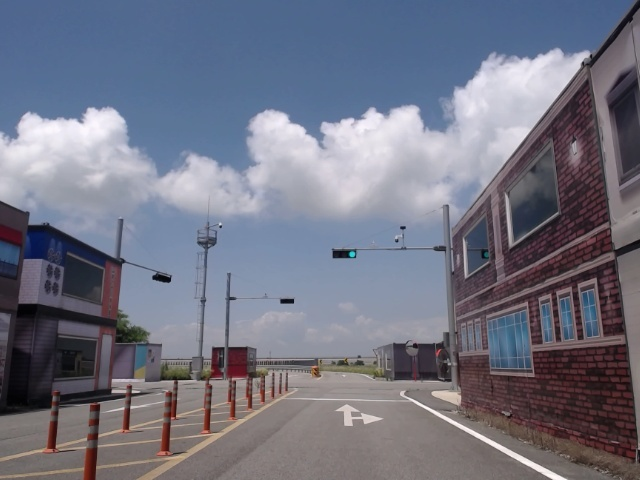green_3: (332, 250, 356, 258)
